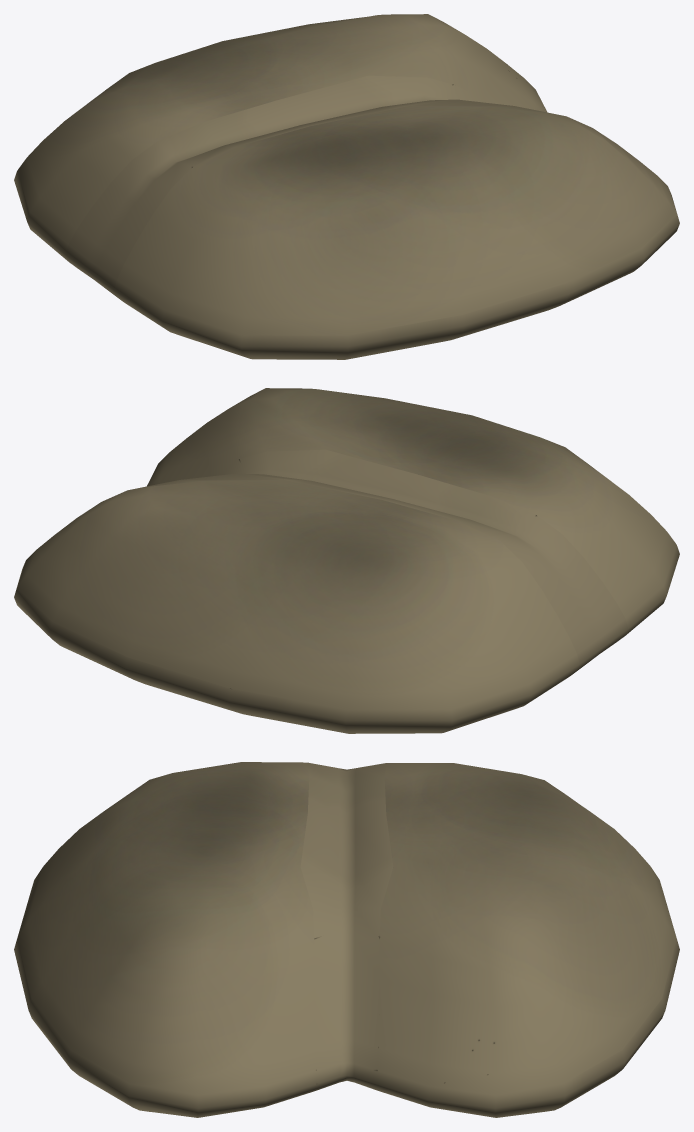
The model's file is marraqueta.fbx.
3 views of the same model, one above another, from view 1: azimuth 30°, elevation 25°; view 2: azimuth 150°, elevation 25°; view 3: azimuth 270°, elevation 25° (orthographic). The views are drawn at different scales.
Visible parts, largest first — view 1: MARRAQUETA; view 2: MARRAQUETA; view 3: MARRAQUETA.
Part boxes in pixels (x1,y1,x2,y2): MARRAQUETA: [14, 14, 679, 359]; MARRAQUETA: [14, 388, 679, 733]; MARRAQUETA: [14, 762, 679, 1117].
Bounding box in the file's own units: 300 × 95.36 × 299.
